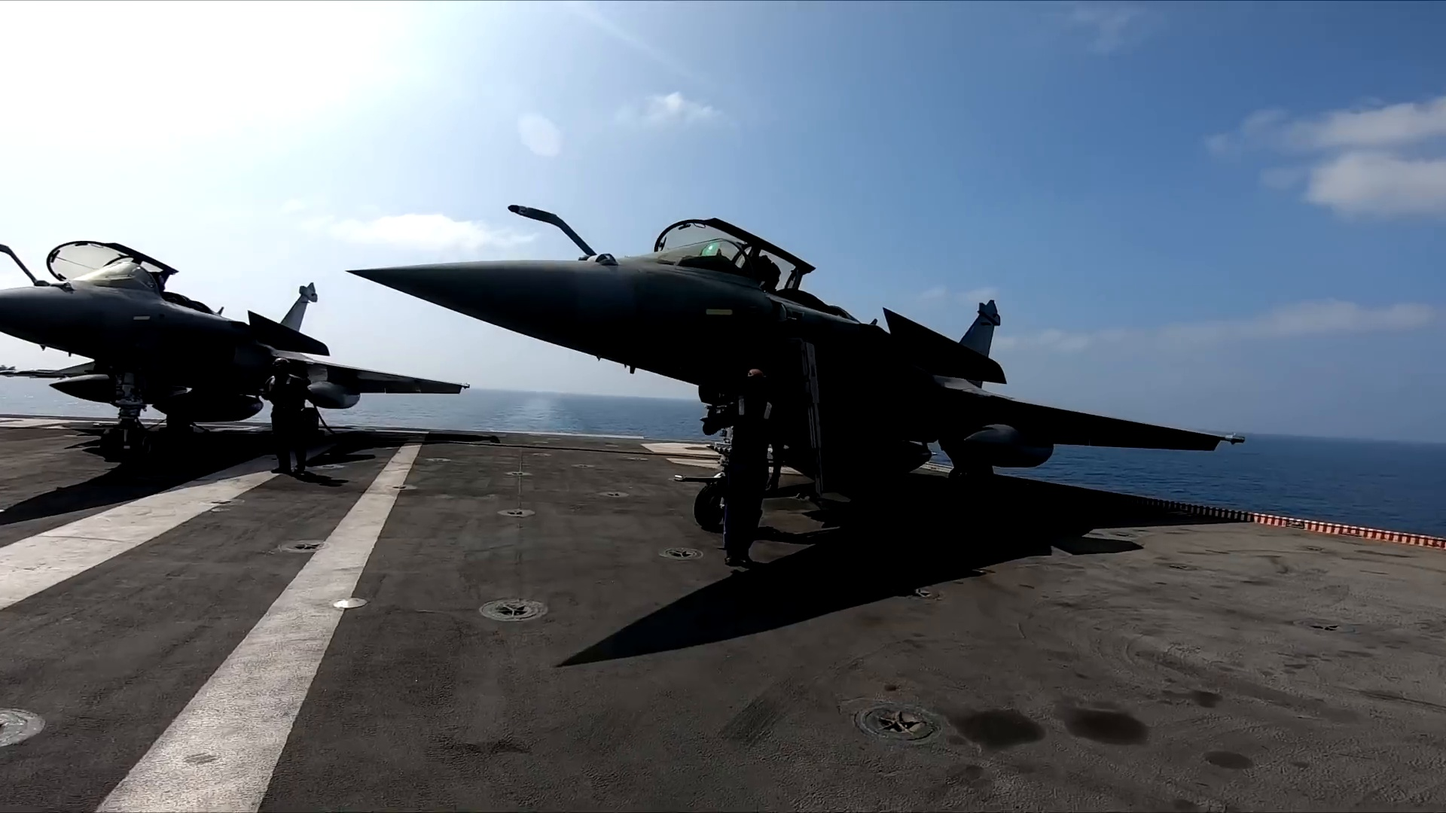Rafale: (345, 206, 1248, 531), (0, 241, 468, 457)
